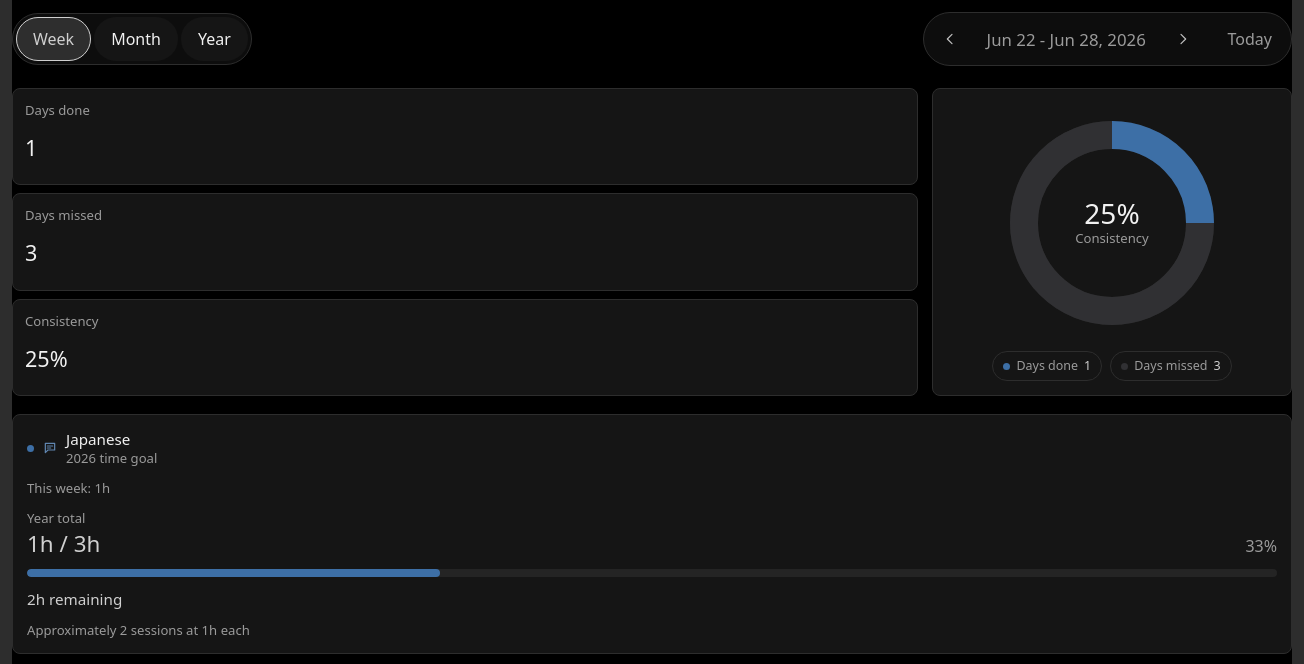
Test case: StatisticsView time goal card › renders the Year statistics calendar as twelve mini-months
Step 1. Click the button "Year" → (214, 39), box [181,17,248,61]
(page scrolled)
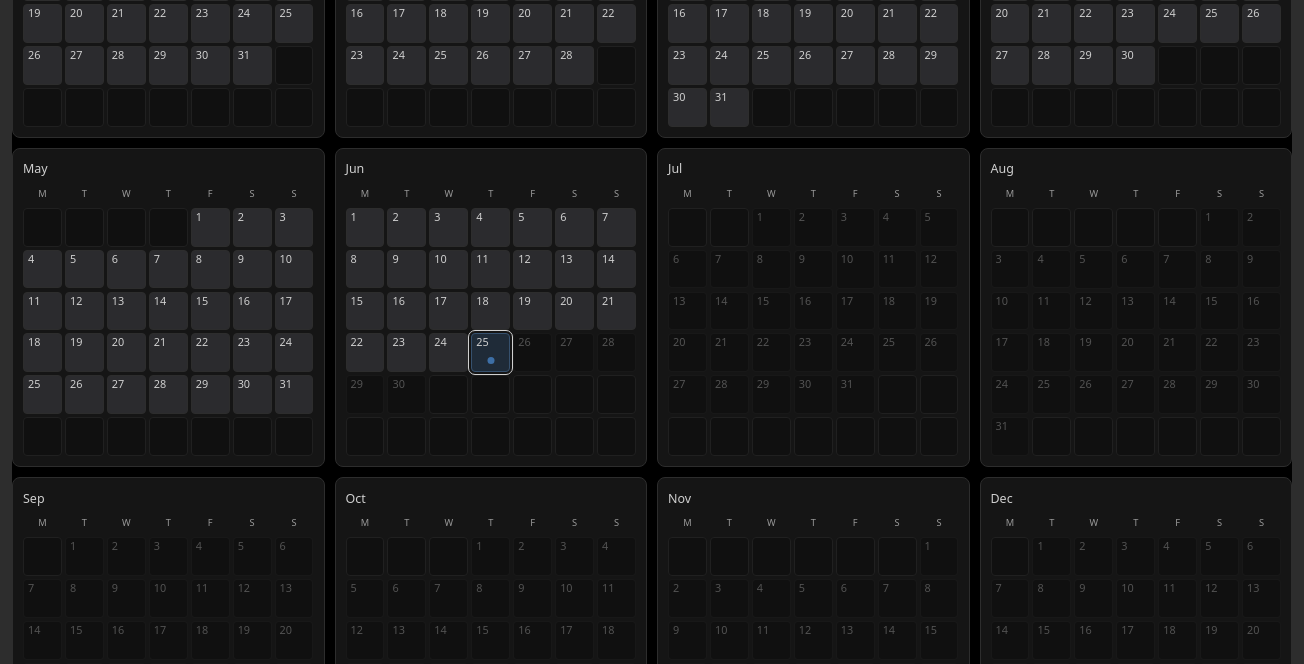
Expected: the text "31" below "Jan" is shown, [238,47,250,62]
Expected: the button named "Thursday, June 25, 2026, Japanese completed, 1h logged" reads "25", [471,333,510,372]
Expected: the button named "Friday, June 26, 2026, future date" reads "26", [513,333,552,372]
